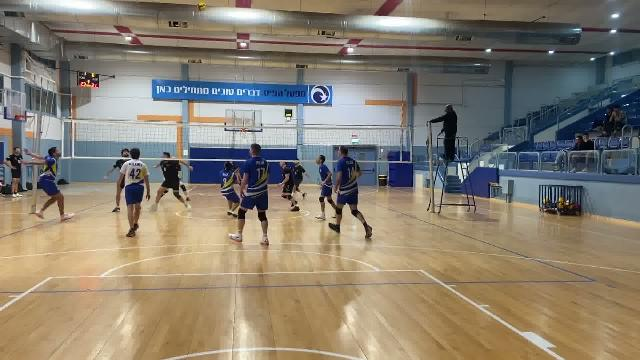ball: (195, 1, 209, 15)
